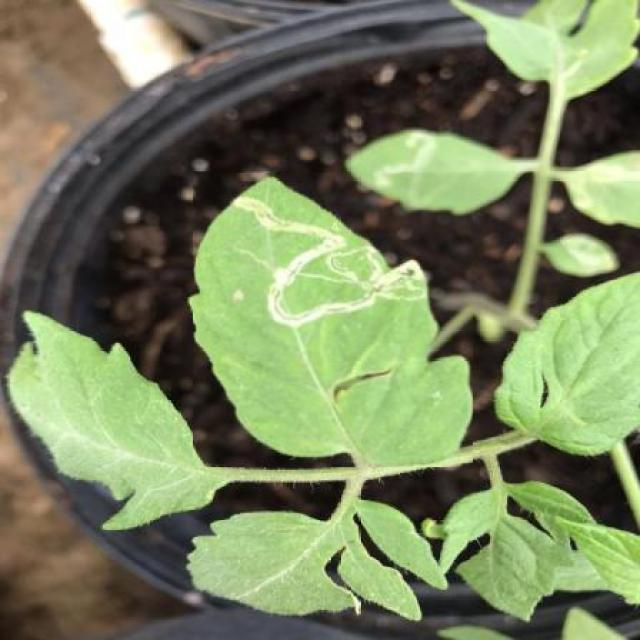Tuta absoluta: (201, 190, 433, 362)
